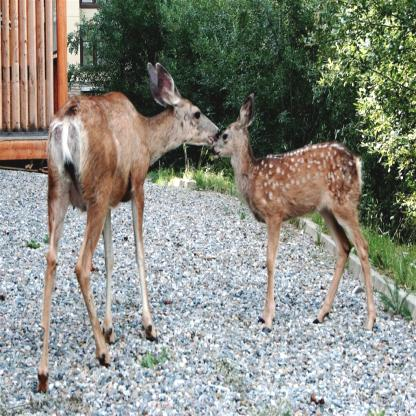Deer: (37, 59, 221, 393), (211, 93, 377, 330)
